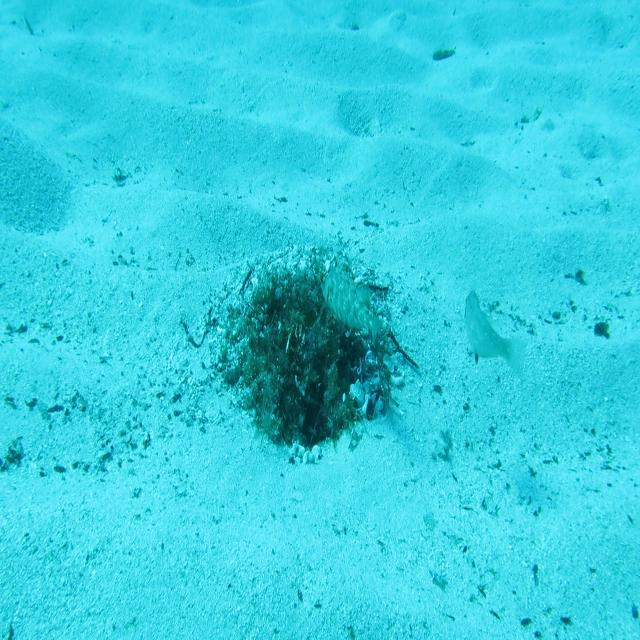INSF: (317, 258, 385, 351)
core_nest: (278, 295, 329, 326)
female: (458, 284, 527, 386)
nest: (209, 243, 410, 474)
vegetation: (431, 46, 456, 64)
